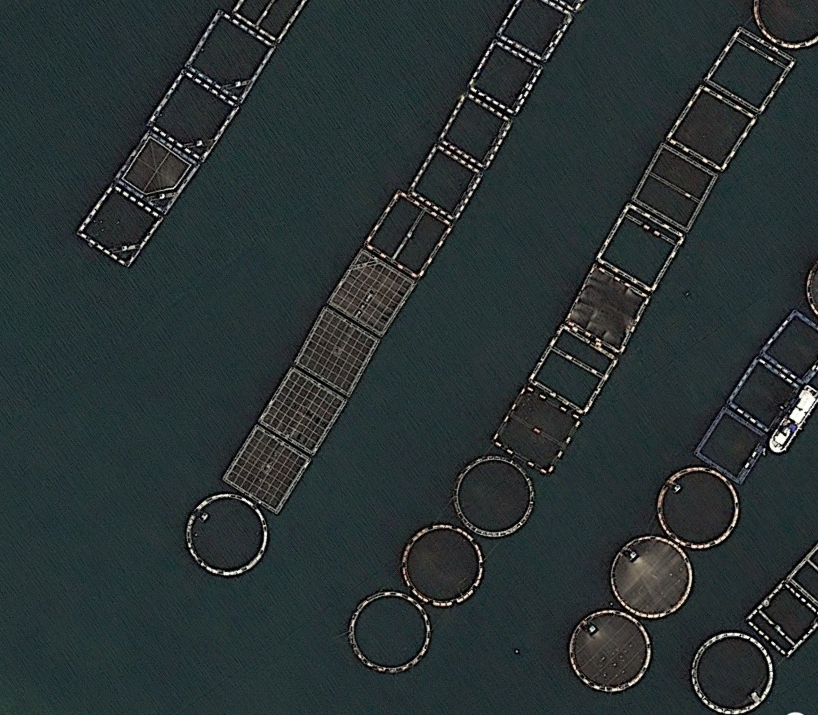circle: (180, 486, 279, 585), (392, 517, 497, 608), (564, 605, 658, 698), (449, 450, 542, 543), (653, 459, 746, 552), (605, 531, 698, 623), (344, 587, 437, 676), (689, 629, 778, 715)
ship: (765, 373, 818, 460)
square: (698, 7, 800, 121), (485, 377, 585, 490), (658, 77, 766, 181), (586, 192, 691, 298), (136, 64, 244, 167), (519, 319, 625, 423), (178, 2, 280, 109), (317, 243, 424, 344), (356, 184, 461, 286), (553, 255, 655, 359), (623, 135, 724, 236), (286, 300, 384, 404), (718, 347, 806, 450), (259, 360, 352, 457), (222, 423, 315, 519), (109, 124, 202, 219), (458, 31, 554, 119), (429, 84, 521, 174), (72, 180, 165, 269), (739, 562, 818, 662), (404, 139, 492, 227), (687, 403, 777, 489)
